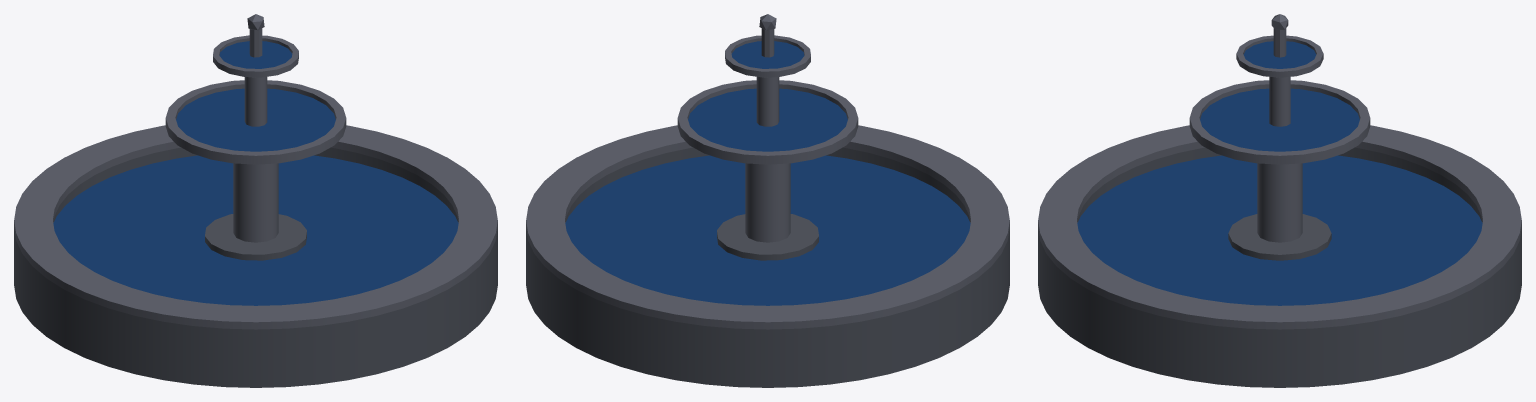
File: fountain.glb
3 renders of one model, left to right at view 1: azimuth 30°, elevation 25°; view 2: azimuth 150°, elevation 25°; view 3: azimuth 270°, elevation 25°, orthographic.
Parts seen in each view (by area): view 1: body, water; view 2: body, water; view 3: body, water.
Part boxes in pixels (box(x1,y1,x2,y2)): body: box(14, 14, 497, 387); water: box(53, 41, 458, 305); body: box(526, 14, 1009, 387); water: box(565, 41, 970, 305); body: box(1038, 14, 1521, 387); water: box(1077, 41, 1482, 305).
Size of the model in its own units: 3 by 1.86 by 3.
